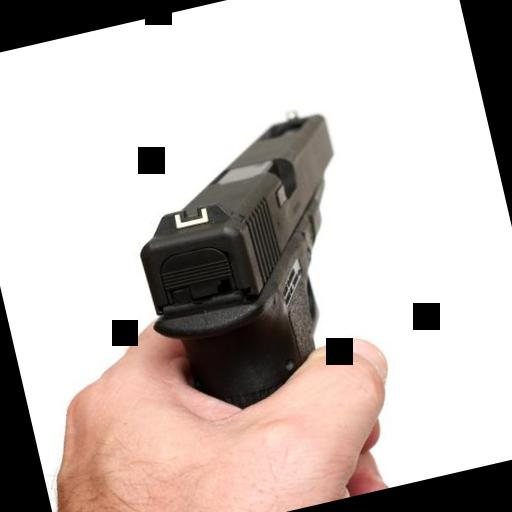Handgun: (108, 96, 388, 429)
